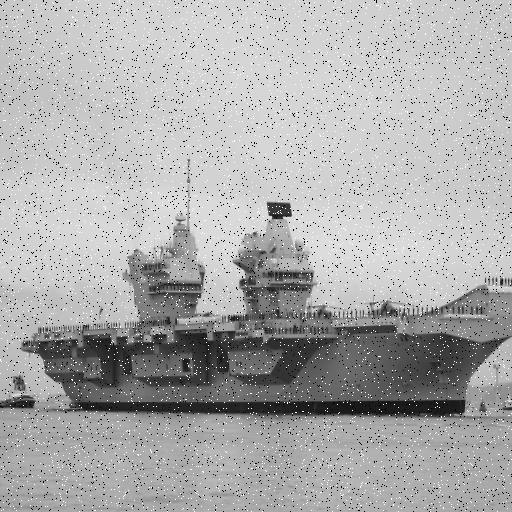Portanaves: (22, 153, 512, 414)
